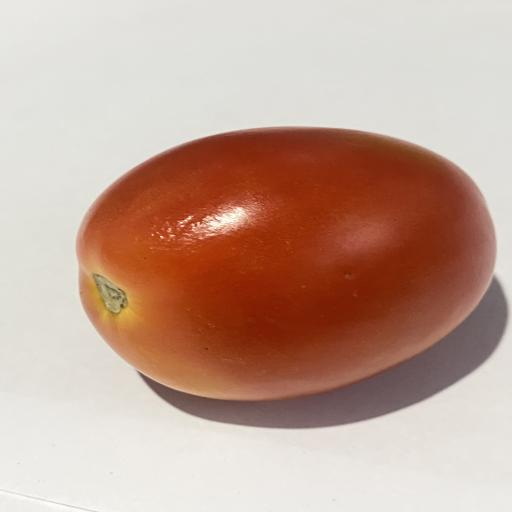overipe: (77, 127, 496, 400)
